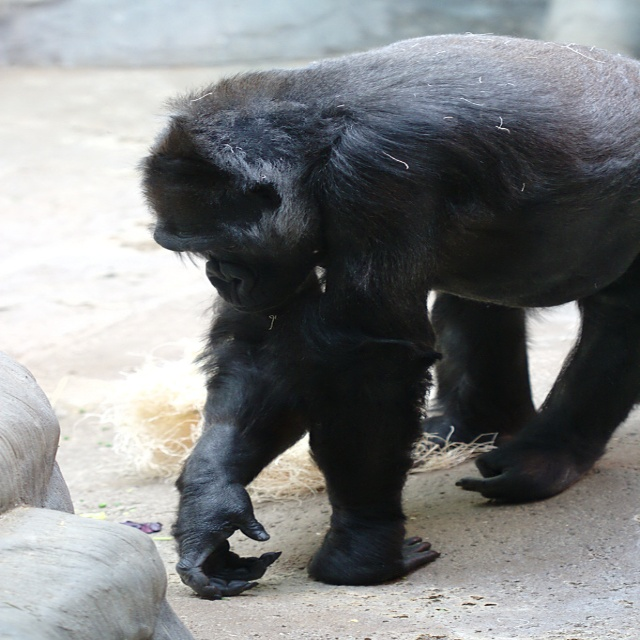Monkey: (121, 25, 627, 611)
